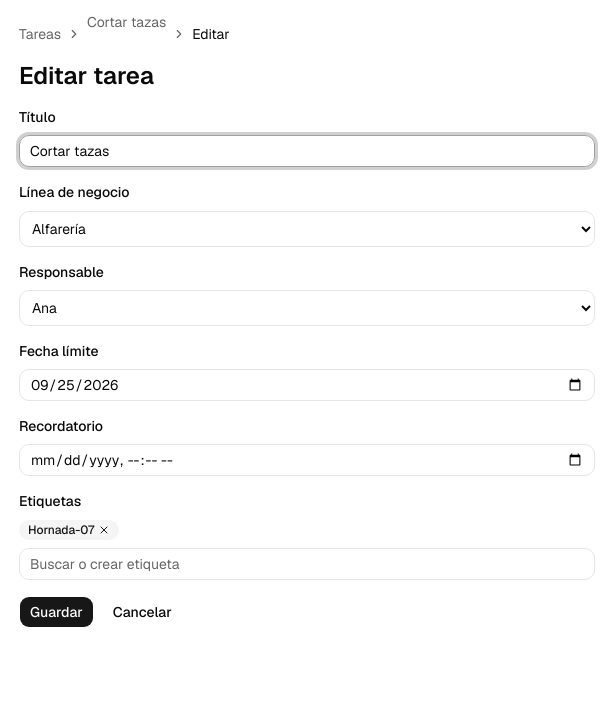
Test: TaskForm en modo edición › un fallo deja el formulario abierto con lo escrito (Un fallo deja el formulario abierto)
Replace the text in the field labelled "Título" with "Cortar 8 tazas" at (307, 151), box [19, 135, 595, 167]
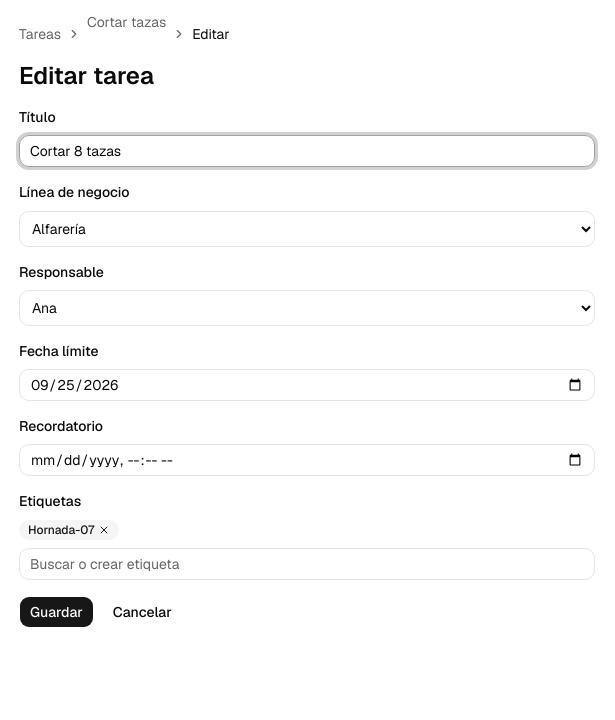
Click the button with test id "save-task" at (56, 612), box [19, 596, 94, 628]
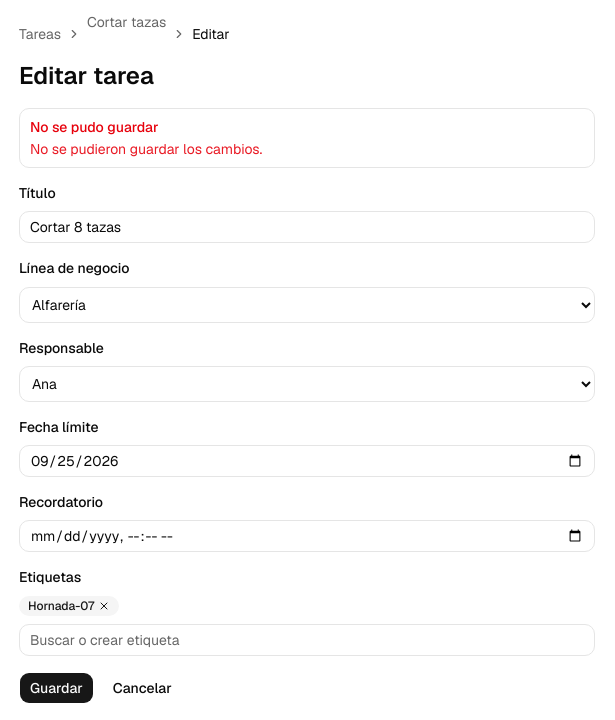
Now the message "No se pudo guardar No se pudieron guardar los cambios." is shown, box [19, 108, 595, 168]
